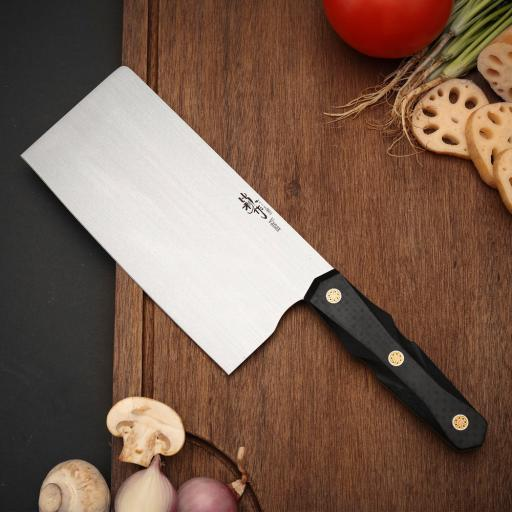knife: (18, 60, 495, 463)
